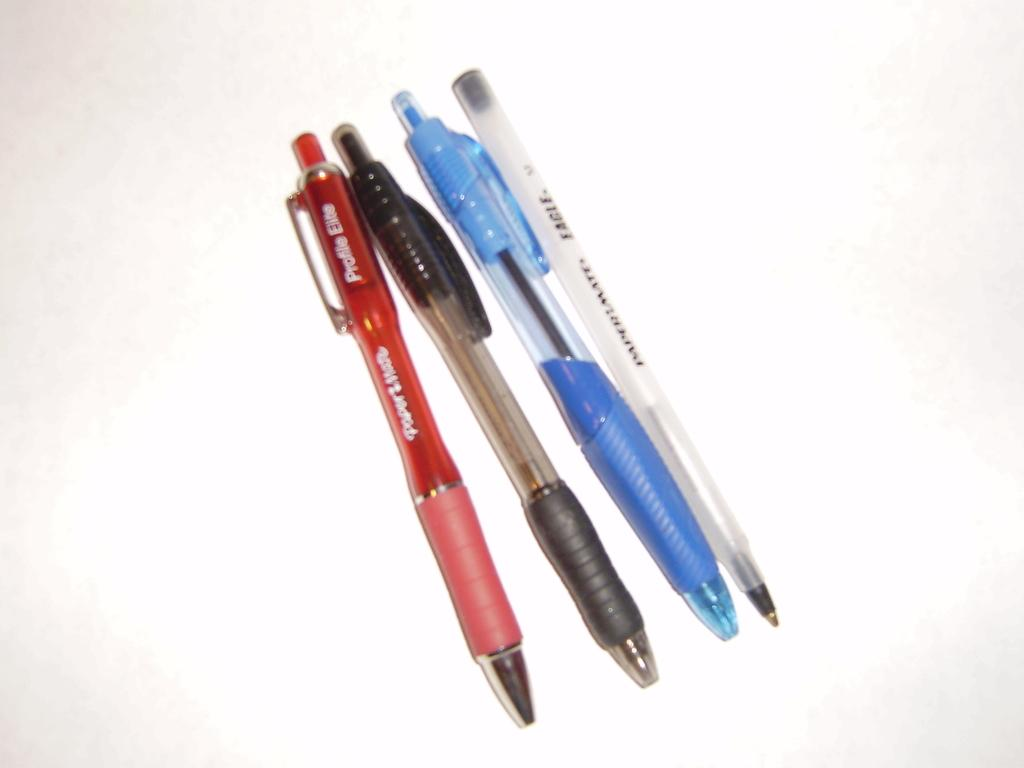pen: (386, 93, 748, 640), (335, 125, 666, 703), (456, 67, 783, 634)
